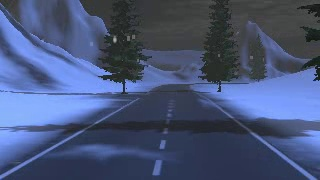Lane: (2, 83, 315, 179)
